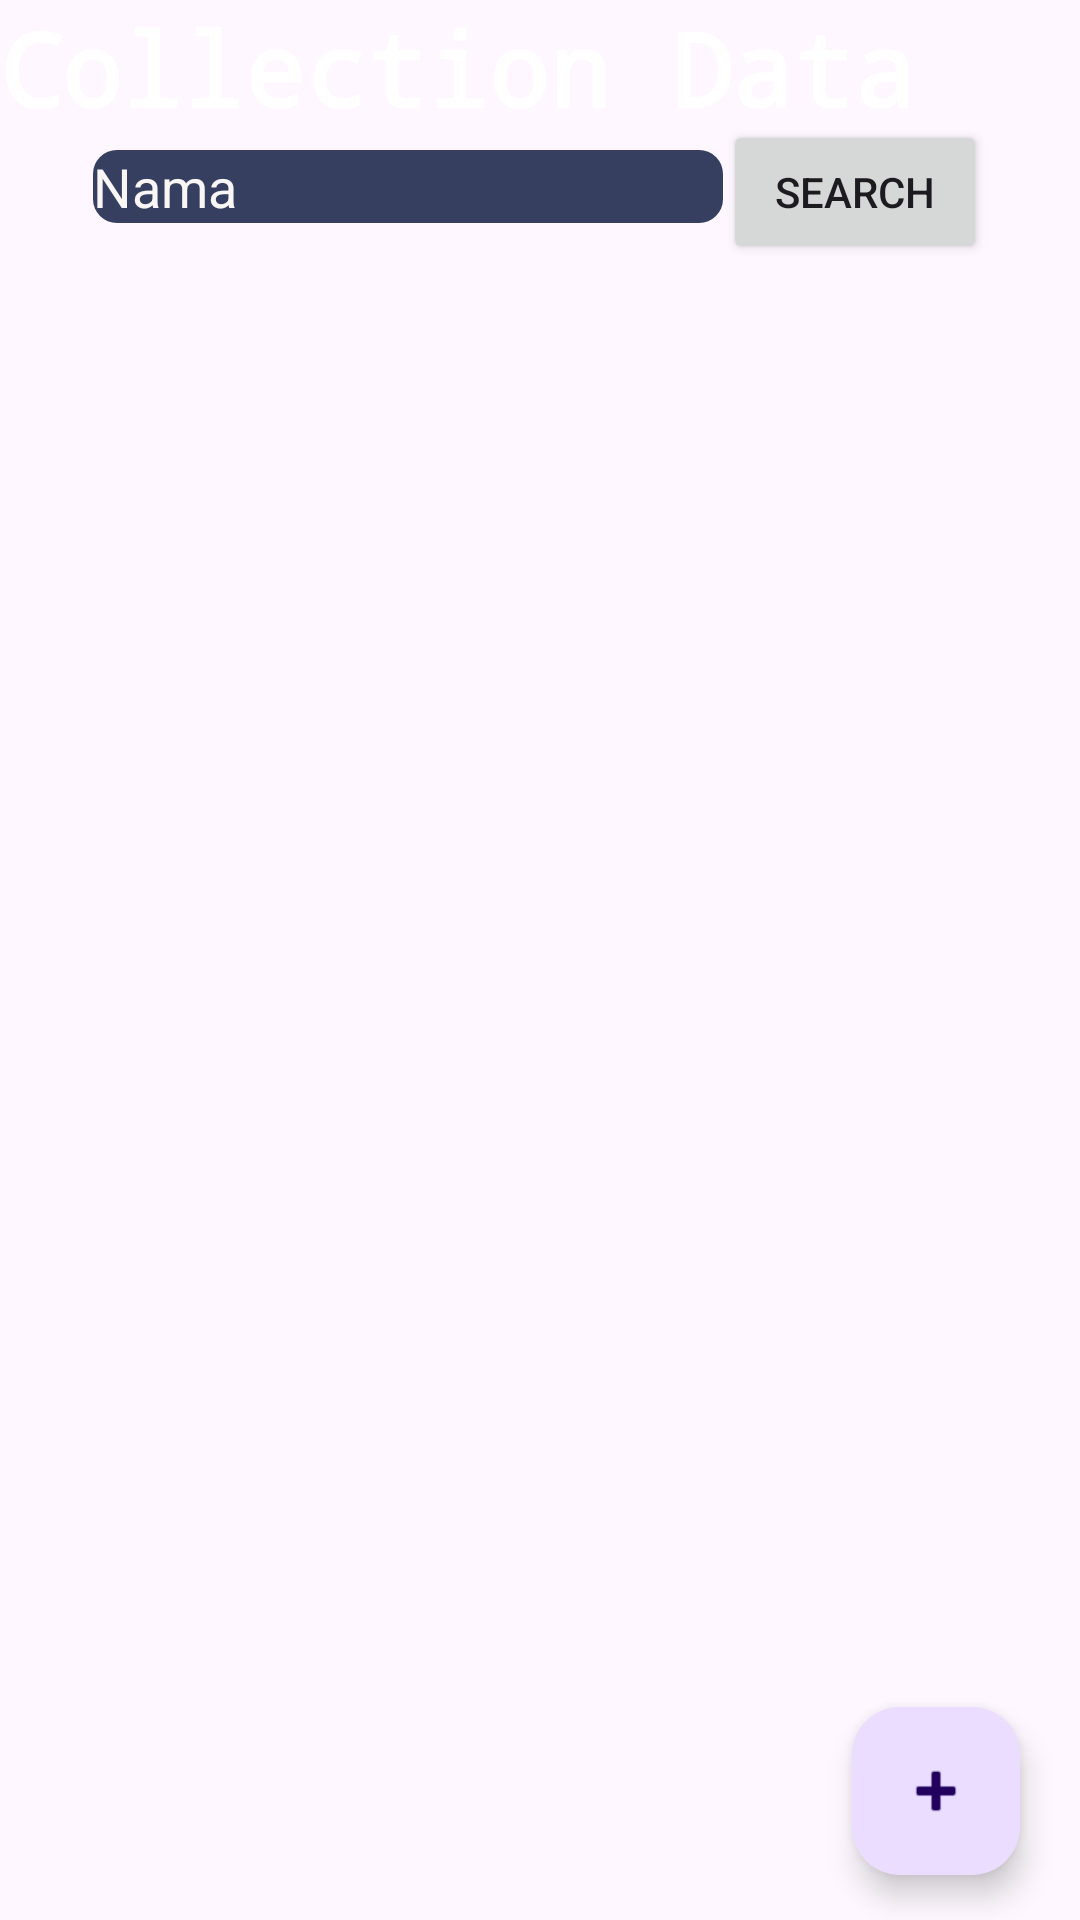

Locate icon controls on the screen. Image size 1080x1920, boxes as rect(x1, y1, x2, y2).
add: rect(852, 1707, 1020, 1875)
